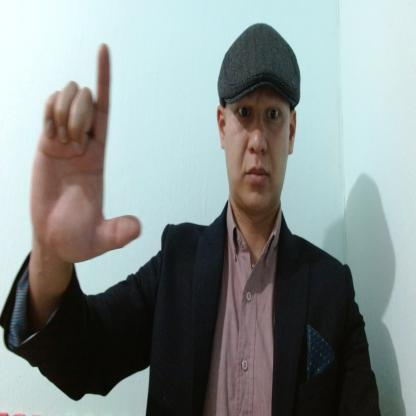L: (30, 42, 142, 262)
